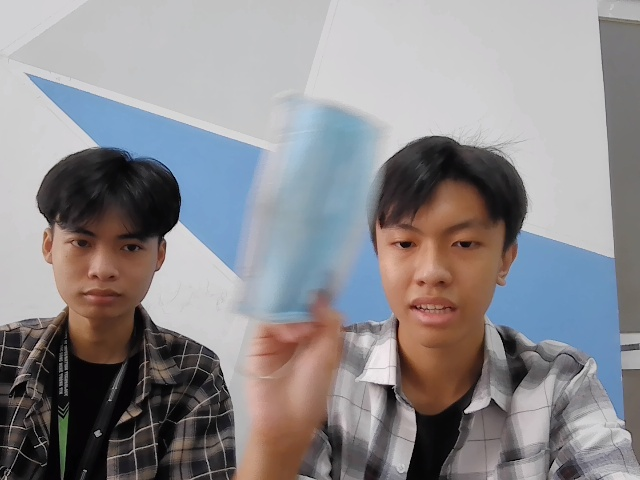human: (361, 137, 529, 347), (37, 148, 179, 321)
mask: (243, 90, 382, 333)
